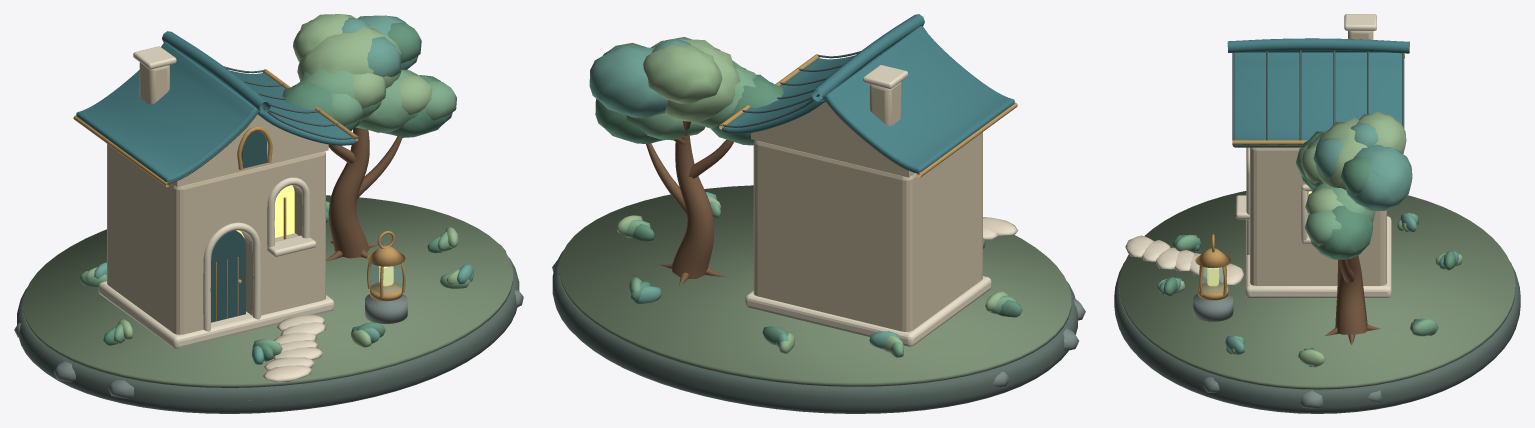
File: cdf-coastal55.glb
3 renders of one model, left to right at view 1: azimuth 30°, elevation 25°; view 2: azimuth 150°, elevation 25°; view 3: azimuth 270°, elevation 25°, orthographic. The views are drawn at different scales.
Parts seen in each view (by area): view 1: CDF_StaticDiorama, CDF_Lantern_Interactive; view 2: CDF_StaticDiorama; view 3: CDF_StaticDiorama, CDF_Lantern_Interactive.
Part boxes in pixels (x1,y1,x2,y2): CDF_StaticDiorama: (14, 14, 523, 413); CDF_Lantern_Interactive: (365, 231, 407, 323); CDF_StaticDiorama: (552, 14, 1085, 413); CDF_StaticDiorama: (1114, 14, 1520, 413); CDF_Lantern_Interactive: (1193, 234, 1233, 321).
Bounding box in the file's own units: 9.49 × 5.3 × 7.72.
